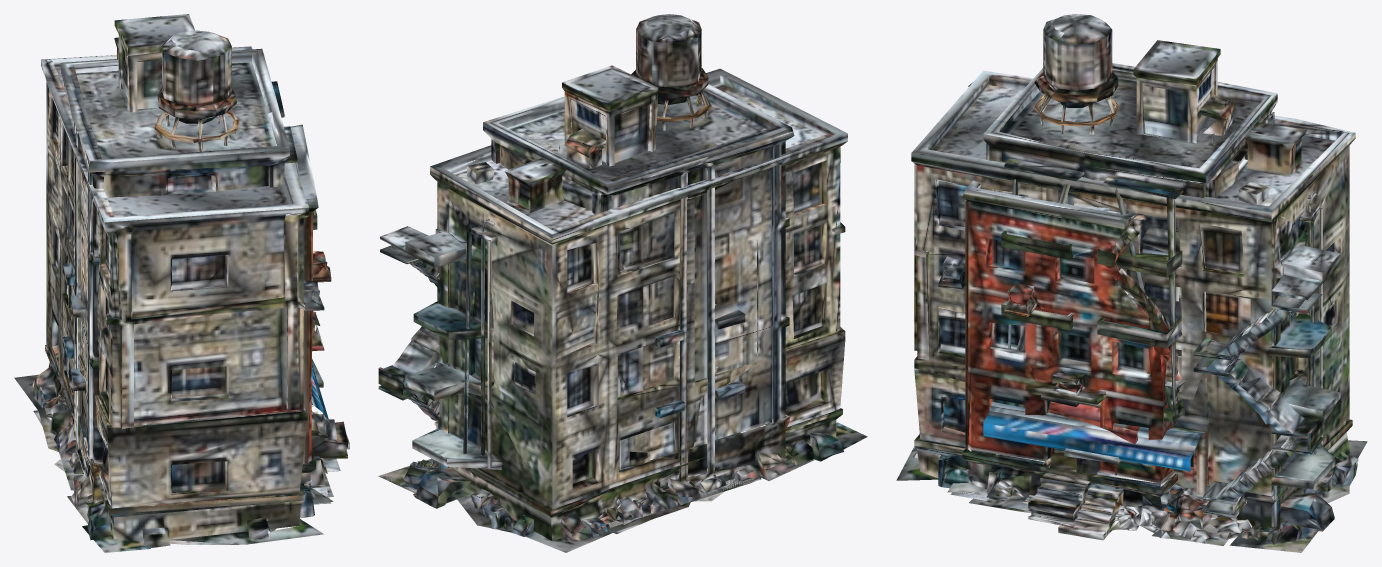
Rendered from buildings-4k.glb.
The picture shows the model from 3 angles, left to right: view 1: azimuth 30°, elevation 25°; view 2: azimuth 150°, elevation 25°; view 3: azimuth 270°, elevation 25°; orthographic projection. The views are drawn at different scales.
Parts seen in each view (by area): view 1: bld-block, bld-tower, bld-brick; view 2: bld-block, bld-tower, bld-brick; view 3: bld-block, bld-tower, bld-brick, bld-shop.
Part boxes in pixels (box(x1,y1,x2,y2)): bld-block: box(14, 37, 349, 552); bld-tower: box(33, 14, 333, 523); bld-brick: box(40, 124, 347, 507); bld-block: box(378, 68, 867, 552); bld-tower: box(483, 14, 814, 533); bld-brick: box(557, 144, 813, 529); bld-block: box(896, 70, 1367, 552); bld-tower: box(969, 14, 1277, 545); bld-brick: box(947, 133, 1251, 543); bld-shop: box(1048, 377, 1225, 533).
Bounding box in the file's own units: 0.2559 × 0.3184 × 0.3066.
1 material, 1 textured.
